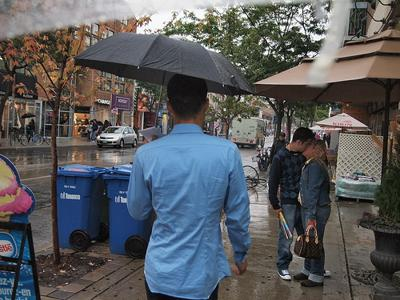person: (126, 73, 251, 300)
